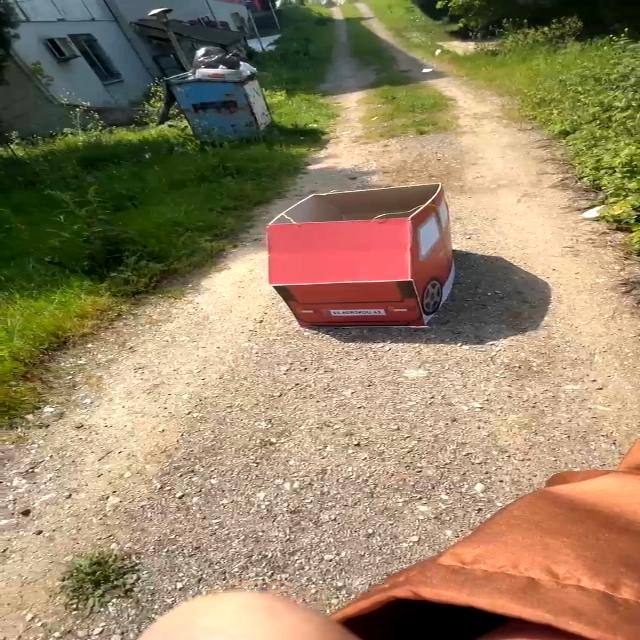red_car: (240, 178, 487, 346)
